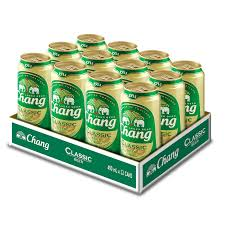can: (16, 29, 208, 160)
